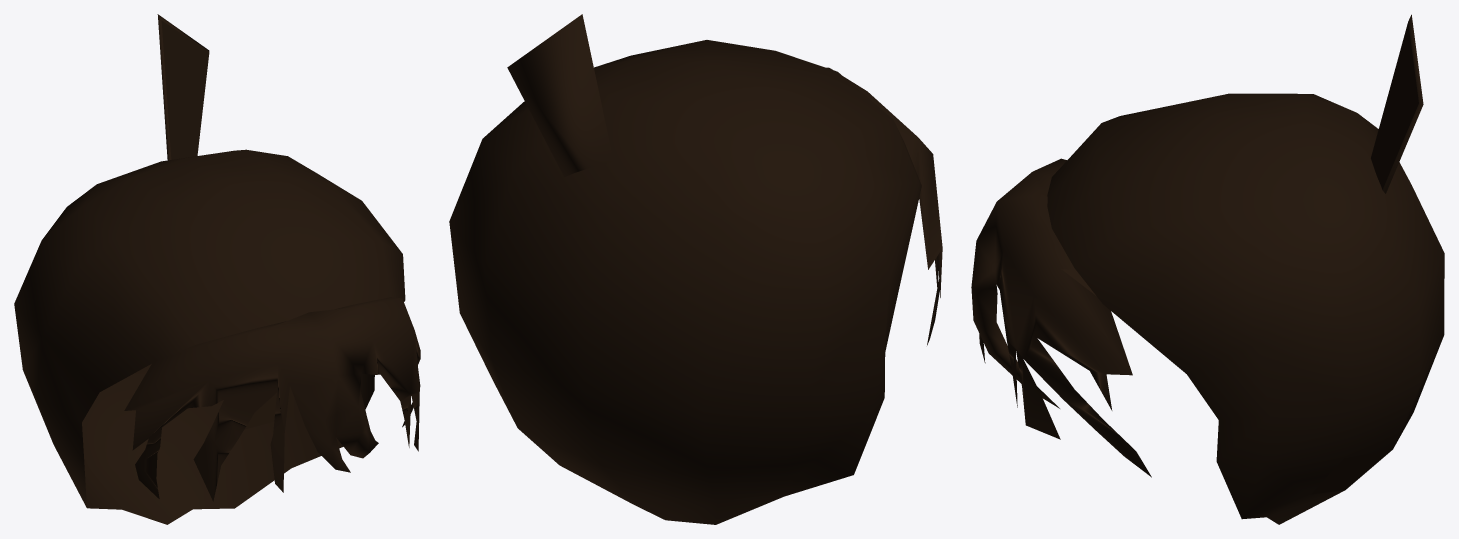
Rendered from hair.obj.
The picture shows the model from 3 angles, left to right: view 1: azimuth 30°, elevation 25°; view 2: azimuth 150°, elevation 25°; view 3: azimuth 270°, elevation 25°; orthographic projection. The views are drawn at different scales.
Visible parts, largest first — view 1: _Mesh3, _Mesh4, _Plane003; view 2: _Mesh3, _Plane003, _Mesh4; view 3: _Mesh3, _Mesh4, _Plane003.
Part boxes in pixels (bbox=[...]): _Mesh3: bbox=[14, 149, 405, 524]; _Mesh4: bbox=[124, 297, 420, 501]; _Plane003: bbox=[157, 14, 209, 160]; _Mesh3: bbox=[449, 40, 921, 524]; _Plane003: bbox=[507, 14, 613, 176]; _Mesh4: bbox=[826, 67, 942, 345]; _Mesh3: bbox=[1047, 93, 1444, 524]; _Mesh4: bbox=[971, 158, 1151, 477]; _Plane003: bbox=[1371, 14, 1423, 193].
Bounding box in the file's own units: 35.13 × 45.36 × 38.76.
